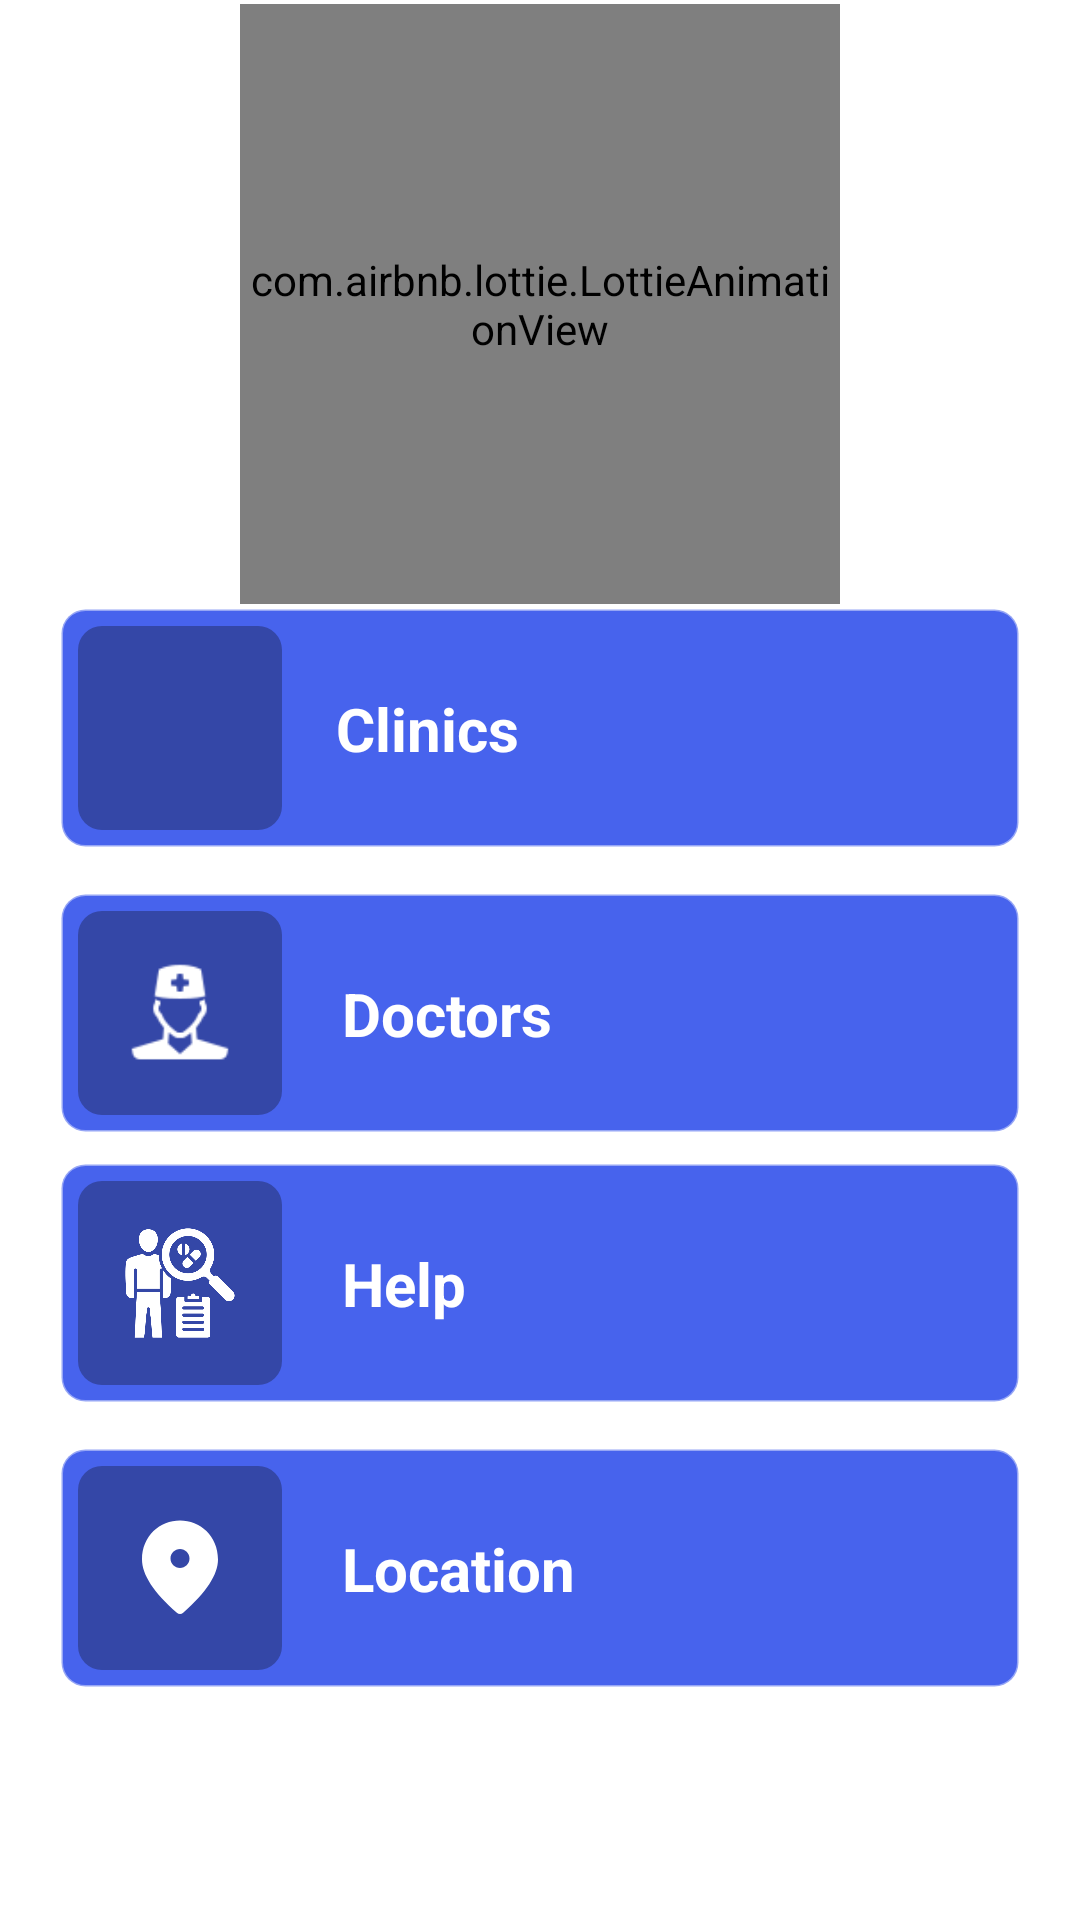

Screen size 1080*1920. Icon name, then its box in pixels as (x1, y1, x2, y2):
men: (78, 911, 282, 1115)
